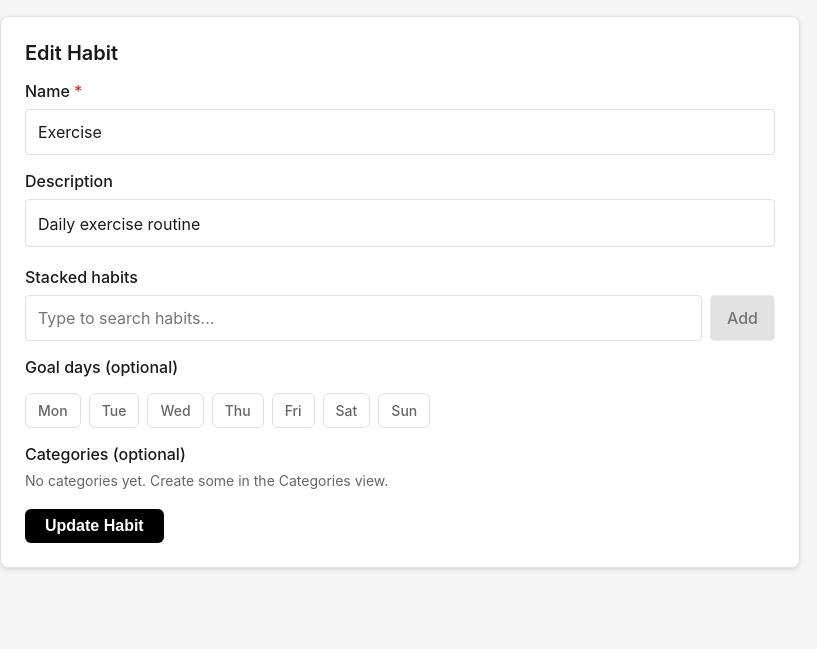
Test: HabitForm › Edit mode › should show error message when update fails
The image size is (817, 649).
Click the button "Update Habit" at (94, 526), box 25,509 -> 164,543
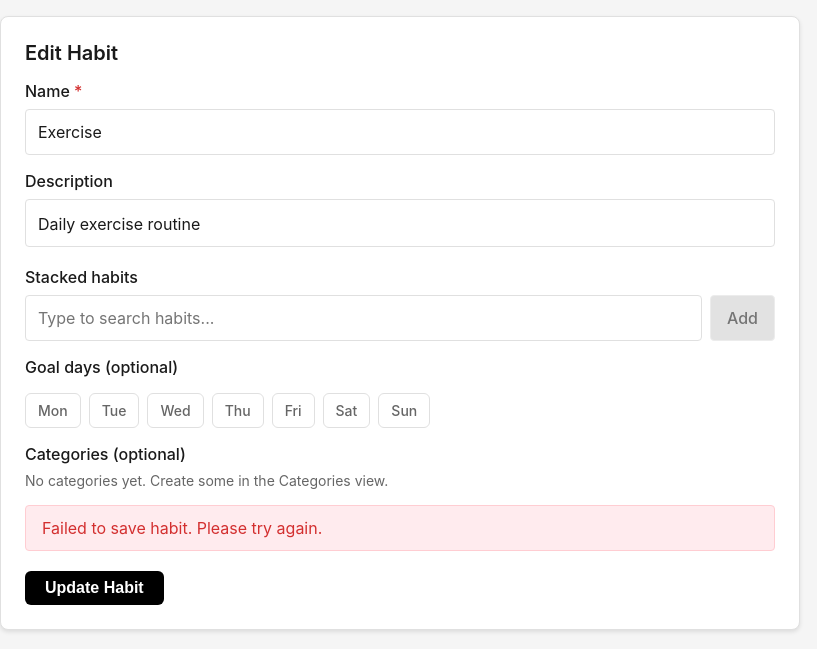
Now the text "Failed to save habit. Please try again." is shown, box 25,505 -> 775,551
